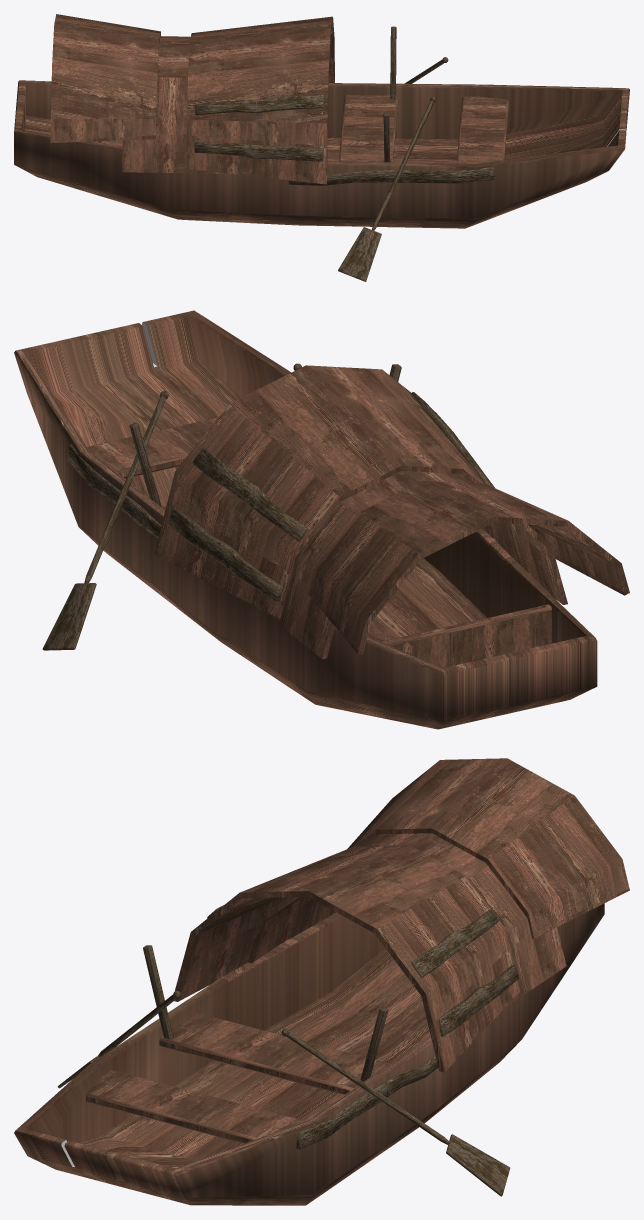
The model's file is Boat.fbx.
3 views of the same model, one above another, from view 1: azimuth 30°, elevation 25°; view 2: azimuth 150°, elevation 25°; view 3: azimuth 270°, elevation 25° (orthographic). The views are drawn at different scales.
Parts seen in each view (by area): view 1: Cube_4_2, Sweep, Sweep_1, Sweep_2, 封顶_2_6, 封顶_2_5, Cube_1, Cube_5, Cube_4, Cube_6_2, Cylinder_2, Cube_3_2; view 2: Cube_4_2, Sweep, Sweep_1, Sweep_2, 封顶_1_6, 封顶_2_5, Cube_2, Cube_3, Cube_6, Cube, Cylinder, Cube_4 (+2 smaller); view 3: Cube_4_2, Sweep, Sweep_1, Sweep_2, 封顶_2_6, 封顶_2_5, Cube, Cube_6, Cube_2, Cube_3, Cylinder, Extrude_1 (+5 smaller).
Part boxes in pixels (x1,y1,x2,y2): Cube_4_2: (14, 80, 629, 228); Sweep: (186, 16, 334, 184); Sweep_1: (50, 14, 160, 142); Sweep_2: (122, 36, 229, 173); 封顶_2_6: (340, 95, 396, 162); 封顶_2_5: (458, 96, 507, 163); Cube_1: (288, 167, 494, 185); Cube_5: (194, 142, 323, 161); Cube_4: (194, 94, 324, 115); Cube_6_2: (338, 227, 381, 281); Cylinder_2: (373, 100, 434, 226); Cube_3_2: (390, 26, 396, 99); Cube_4_2: (14, 310, 597, 729); Sweep: (154, 365, 485, 618); Sweep_1: (309, 480, 629, 654); Sweep_2: (257, 471, 567, 659); 封顶_1_6: (391, 610, 551, 667); 封顶_2_5: (87, 417, 217, 470); Cube_2: (192, 447, 308, 541); Cube_3: (168, 507, 283, 601); Cube_6: (42, 583, 96, 650); Cube: (68, 444, 208, 582); Cylinder: (86, 396, 165, 577); Cube_4: (411, 392, 494, 487); Cube_4_2: (14, 903, 604, 1205); Sweep: (174, 845, 519, 1072); Sweep_1: (347, 758, 629, 938); Sweep_2: (247, 833, 566, 1007); 封顶_2_6: (161, 1013, 389, 1088); 封顶_2_5: (87, 1070, 304, 1137); Cube: (296, 1055, 438, 1149); Cube_6: (446, 1134, 510, 1196); Cube_2: (411, 909, 498, 977); Cube_3: (438, 965, 518, 1036); Cylinder: (286, 1032, 444, 1141); Extrude_1: (159, 1040, 349, 1094).
Bounding box in the file's own units: 633 × 206 × 489.
Materials: 2 (2 with a texture image).
